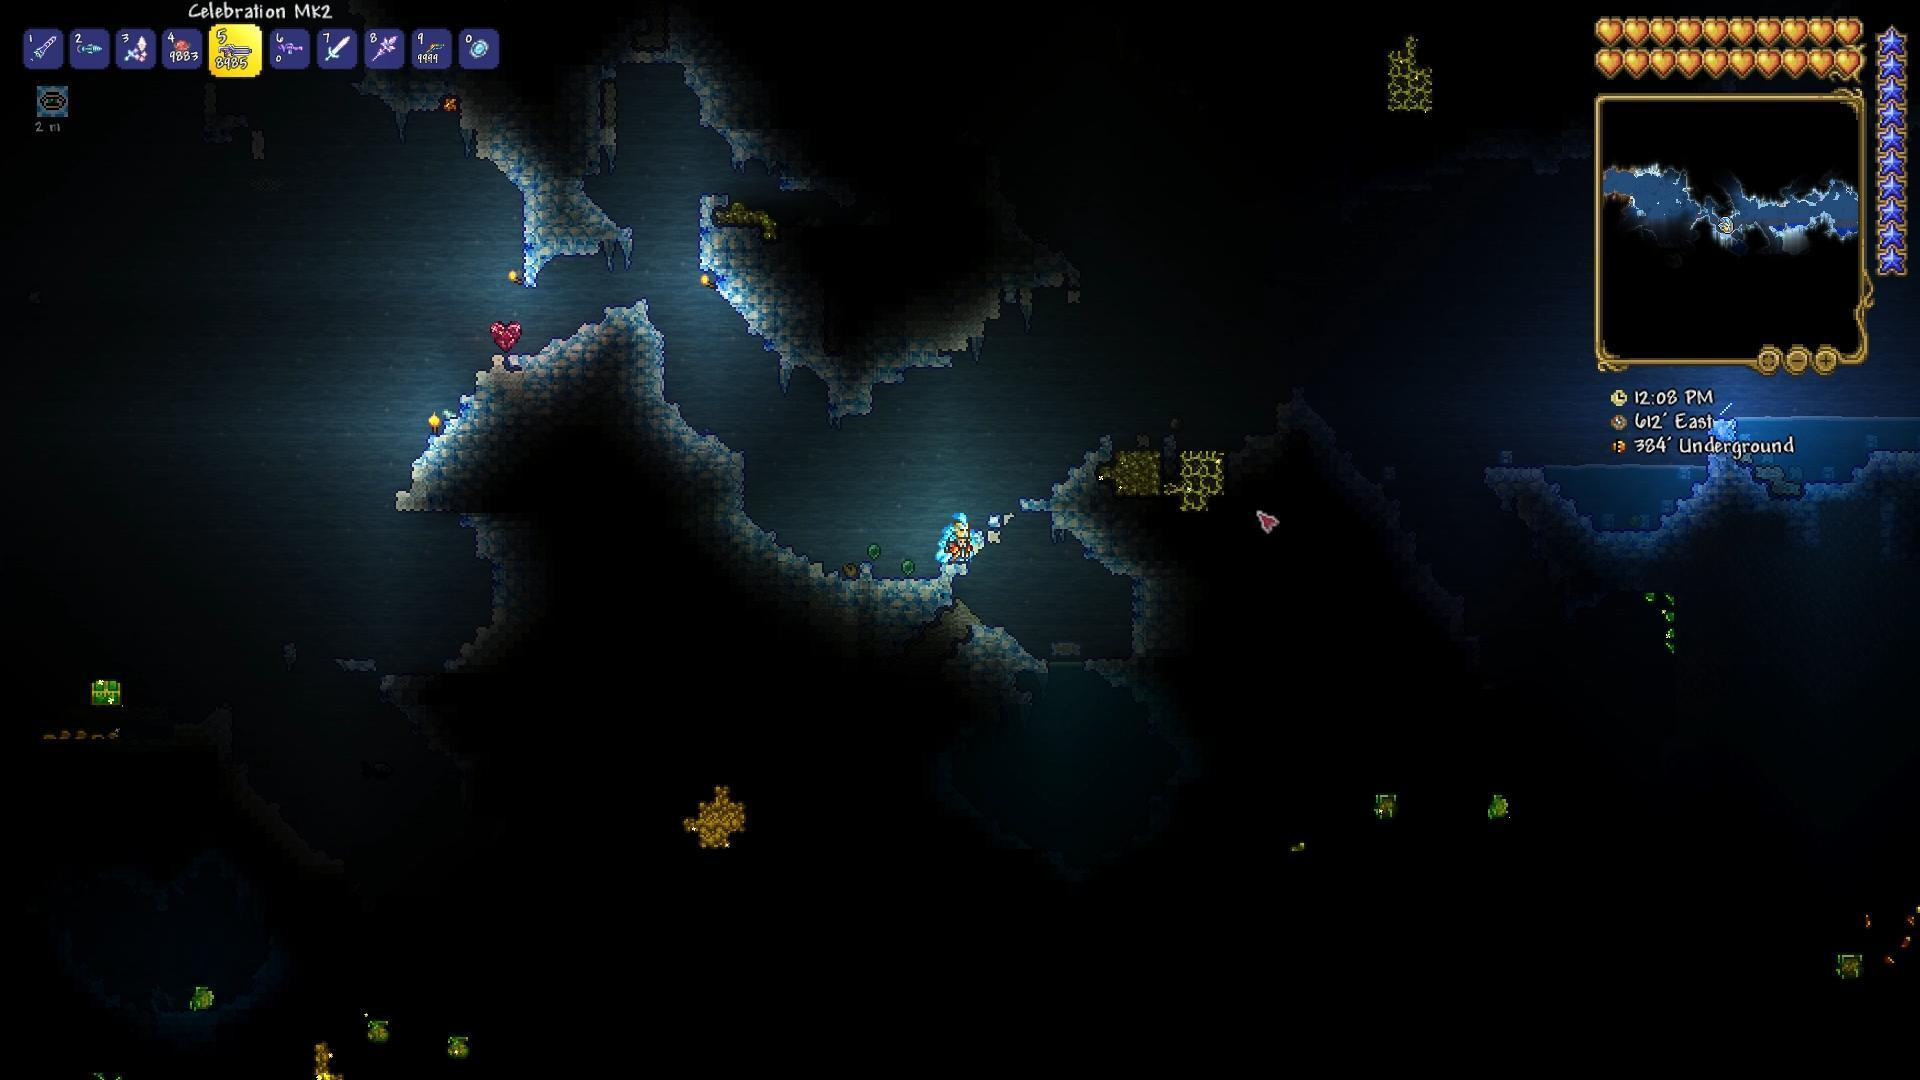chest: (84, 674, 125, 705)
lifeC: (489, 316, 525, 353)
